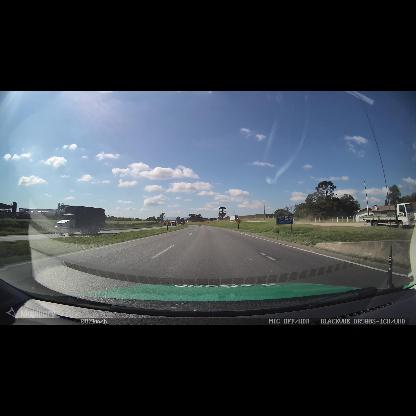I-SA: (276, 215, 293, 225)
